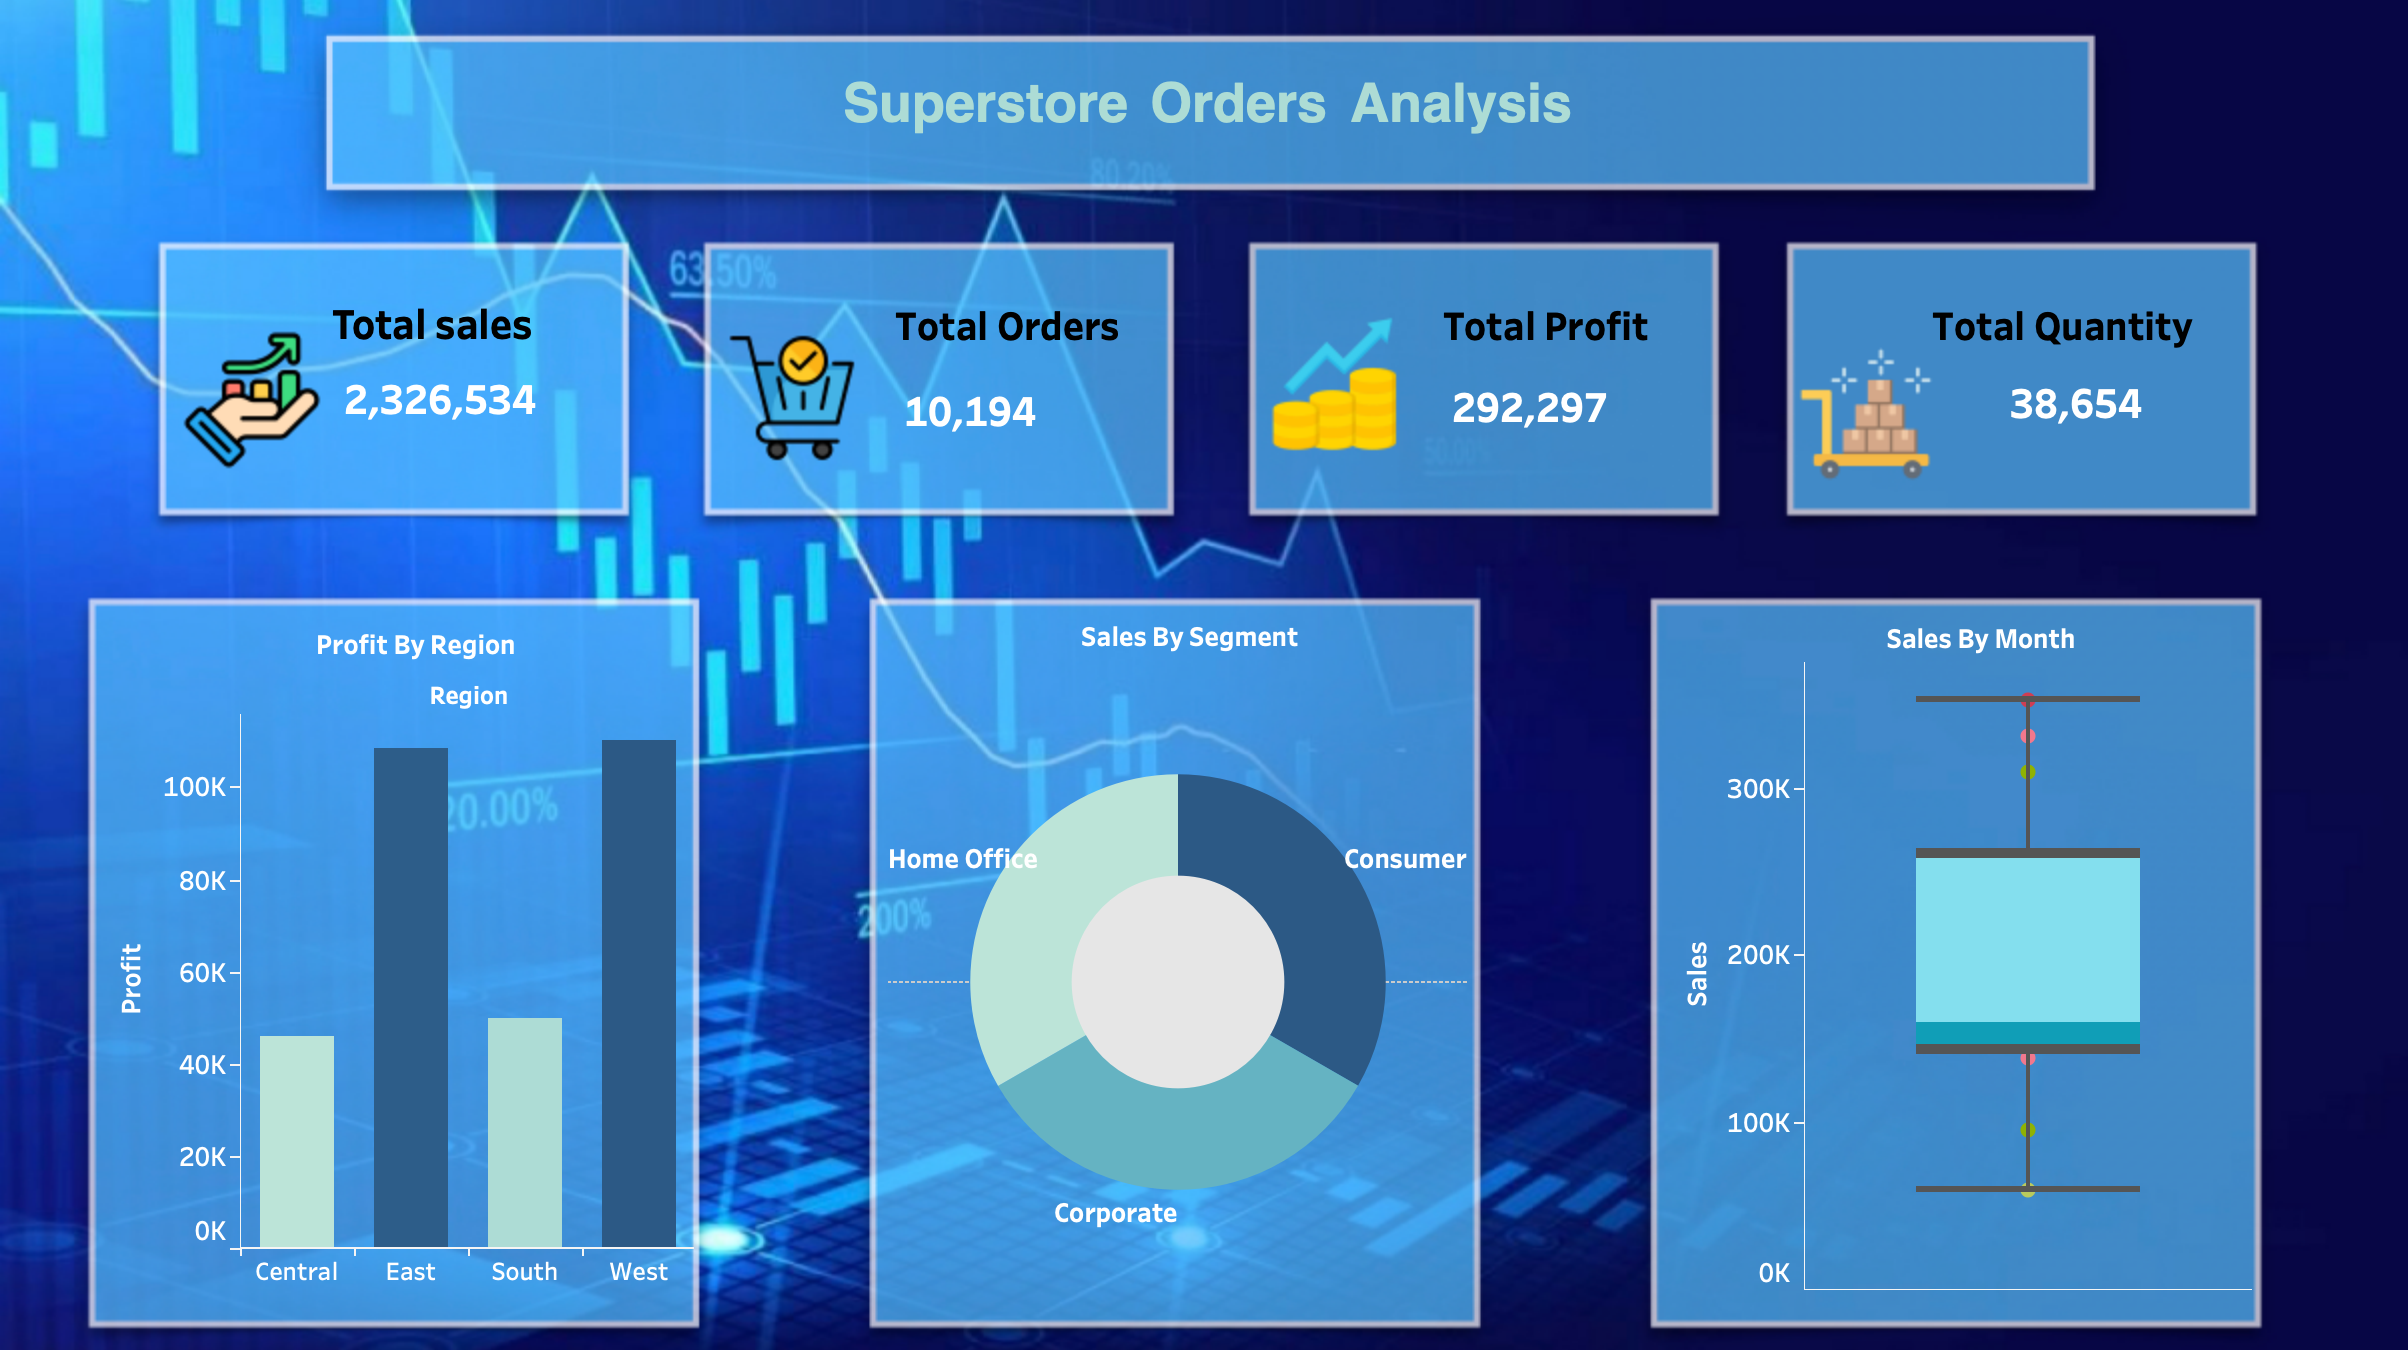

What the dashboard file says about the page in this screenshot:
{"tool":"tableau","page":{"name":"Dashboard 1","canvas":[1000,1000],"units":"permille","ordinal":0},"visuals":[{"type":"image","param":"/Users/sreemol/Desktop/Offline intern/tableau background/tableau background.001.","box":[6.5,9.9,987,980.2]},{"type":"text","box":[294.3,139,391,49.3]},{"type":"text","box":[354.4,258.6,130.3,47.8]},{"type":"text","box":[573.3,258.6,130.3,47.8]},{"type":"text","box":[779,258.6,140.5,47.8]},{"type":"worksheet","title":"total sales","mark":"Automatic","box":[133.4,260.1,127.3,116.6]},{"type":"image","param":"/Users/sreemol/Downloads/income_17072384.png","box":[525.5,276.5,57,86.7]},{"type":"image","param":"/Users/sreemol/Downloads/sales.png","box":[82.5,284,60.1,104.6]},{"type":"image","param":"/Users/sreemol/Downloads/order_9332162.png","box":[305.5,287,54,98.7]},{"type":"image","param":"/Users/sreemol/Downloads/logistics_11746169.png","box":[741.3,296,56,83.7]},{"type":"worksheet","title":"total quantity","mark":"Automatic","box":[819.8,313.9,82.5,55.3]},{"type":"worksheet","title":"total profit","mark":"Automatic","box":[585.5,316.9,118.1,52.3]},{"type":"worksheet","title":"total orders","mark":"Automatic","box":[369.7,319.9,103.9,47.8]},{"type":"text","box":[436.9,454.4,114,40.4]},{"type":"text","box":[765.8,457.4,99.8,37.4]},{"type":"text","box":[126.3,463.4,105.9,34.4]},{"type":"worksheet","title":"box chart","mark":"Circle","rows":["Sales"],"box":[686.4,491.8,239.3,388.6]},{"type":"worksheet","title":"donut chart","mark":"Pie","rows":["Calculation_0168912912789505","Calculation_0168912912789505"],"box":[370.7,494.8,236.2,388.6]},{"type":"worksheet","title":"bar chart","mark":"Automatic","rows":["Profit"],"cols":["Region"],"box":[55,499.2,237.3,381.2]}]}

Visuals, with their boxes on the dashboard's canvas, which has no fixed pixel size, in thousandths of its width and height (x1, y1, x2, y2). These are canvas units, not pixel positions in the 2408x1350 screenshot, which may show the page scaled, cropped or inside an application window:
image: region(6, 10, 994, 990)
text: region(294, 139, 685, 188)
text: region(354, 259, 485, 306)
text: region(573, 259, 704, 306)
text: region(779, 259, 920, 306)
"total sales" worksheet: region(133, 260, 261, 377)
image: region(526, 276, 582, 363)
image: region(82, 284, 143, 389)
image: region(306, 287, 360, 386)
image: region(741, 296, 797, 380)
"total quantity" worksheet: region(820, 314, 902, 369)
"total profit" worksheet: region(586, 317, 704, 369)
"total orders" worksheet: region(370, 320, 474, 368)
text: region(437, 454, 551, 495)
text: region(766, 457, 866, 495)
text: region(126, 463, 232, 498)
"box chart" worksheet (Circle marks): region(686, 492, 926, 880)
"donut chart" worksheet (Pie marks): region(371, 495, 607, 883)
"bar chart" worksheet: region(55, 499, 292, 880)
